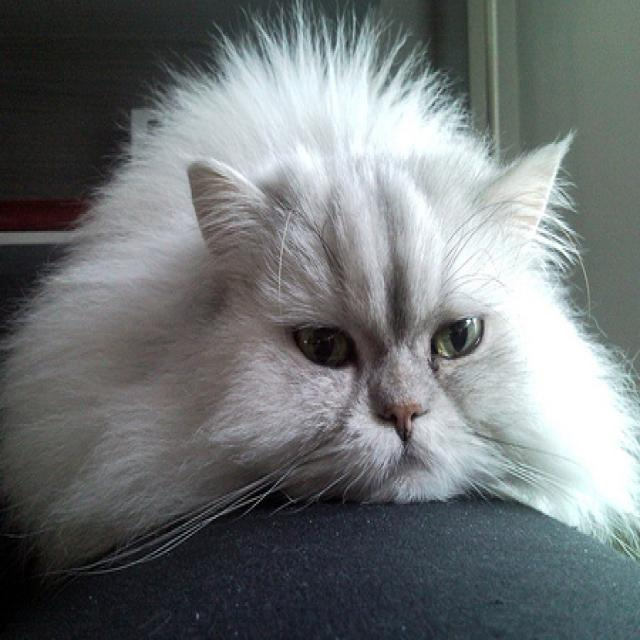Persian: (0, 11, 640, 558)
